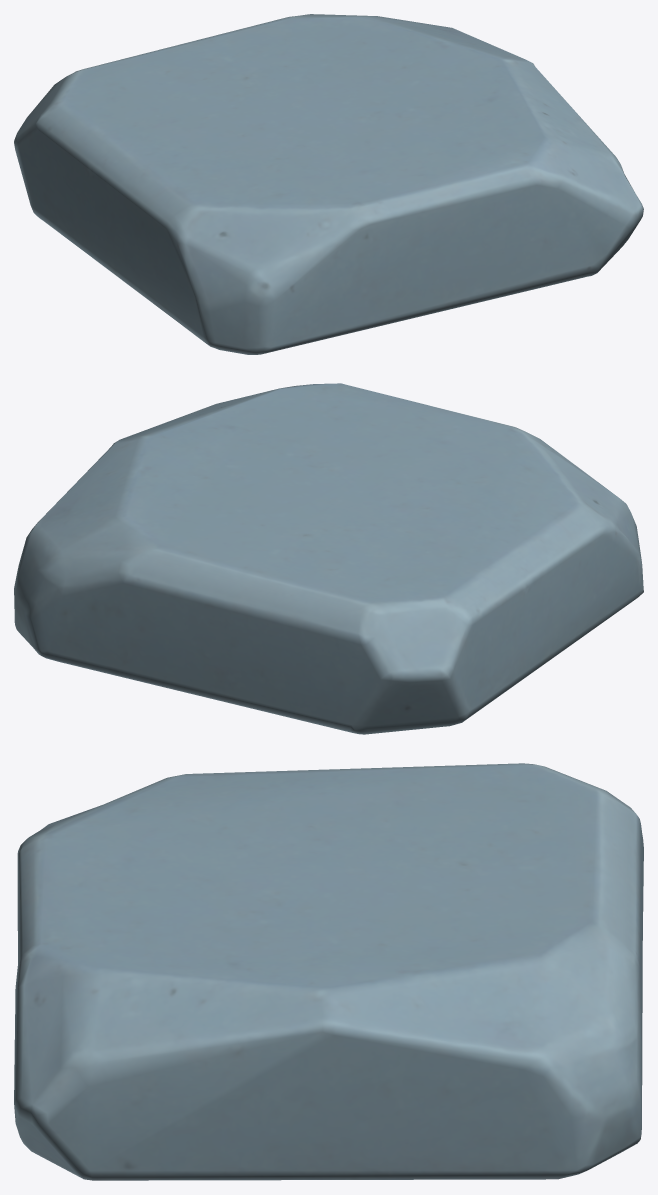
File: Meshy_AI_model_20261128_texture.fbx
3 renders of one model, top to bottom at view 1: azimuth 30°, elevation 25°; view 2: azimuth 150°, elevation 25°; view 3: azimuth 270°, elevation 25°, orthographic. The views are drawn at different scales.
Visible parts, largest first — view 1: geometry_0; view 2: geometry_0; view 3: geometry_0.
Boxes of the visible parts, x1=… form: geometry_0: x1=14, y1=14, x2=643, y2=354; geometry_0: x1=14, y1=383, x2=643, y2=734; geometry_0: x1=14, y1=763, x2=643, y2=1180.
Size of the model in its own units: 100 by 30.06 by 96.22.
1 material, 1 textured.
